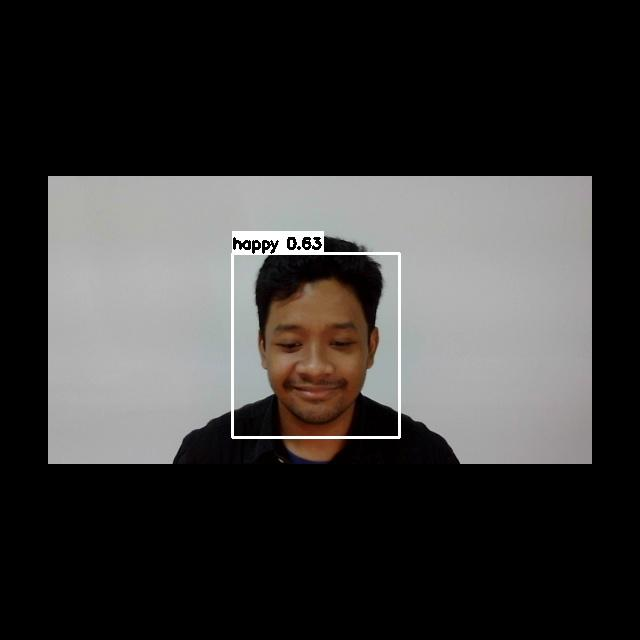Happy: (266, 316, 370, 412)
